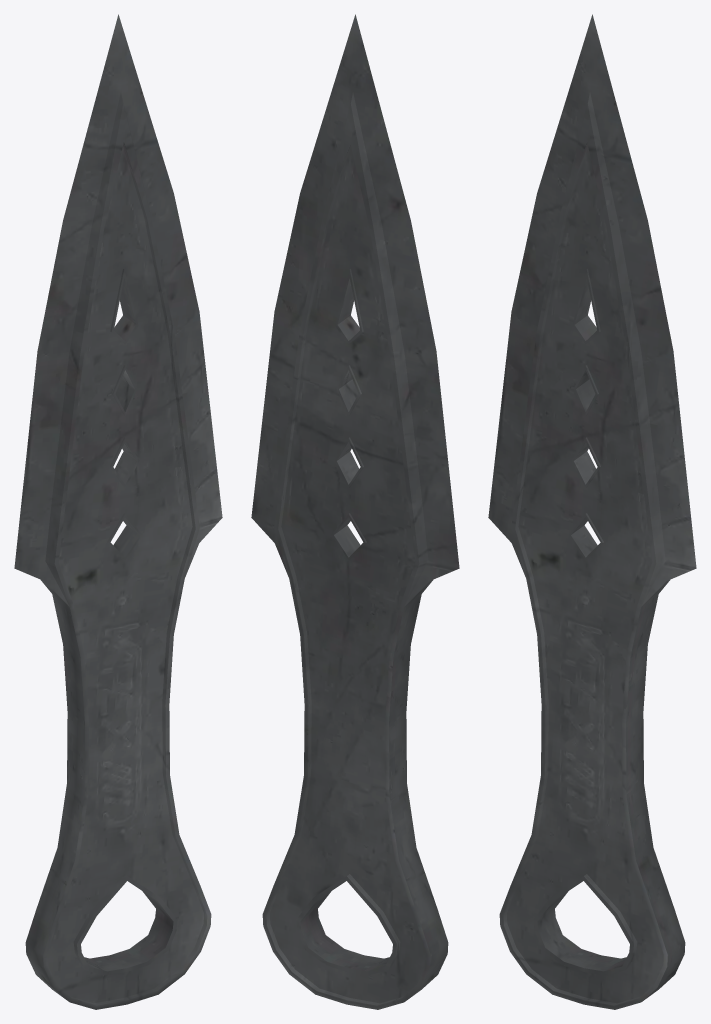
3 views of the same model, side by side, from view 1: azimuth 30°, elevation 25°; view 2: azimuth 150°, elevation 25°; view 3: azimuth 330°, elevation 25° (orthographic).
Visible parts, largest first — view 1: ApexKnife_ApexKnifeMat_0; view 2: ApexKnife_ApexKnifeMat_0; view 3: ApexKnife_ApexKnifeMat_0.
Part boxes in pixels (x1,y1,x2,y2): ApexKnife_ApexKnifeMat_0: (14,14,222,1009); ApexKnife_ApexKnifeMat_0: (251,14,459,1009); ApexKnife_ApexKnifeMat_0: (488,14,696,1009).
Size of the model in its own units: 9.02 by 40.73 by 1.31.
1 material, 1 textured.
